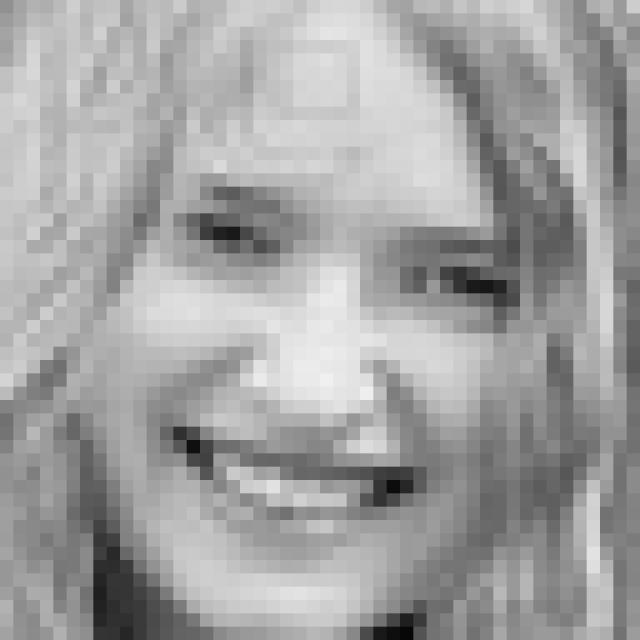happy: (146, 169, 532, 568)
